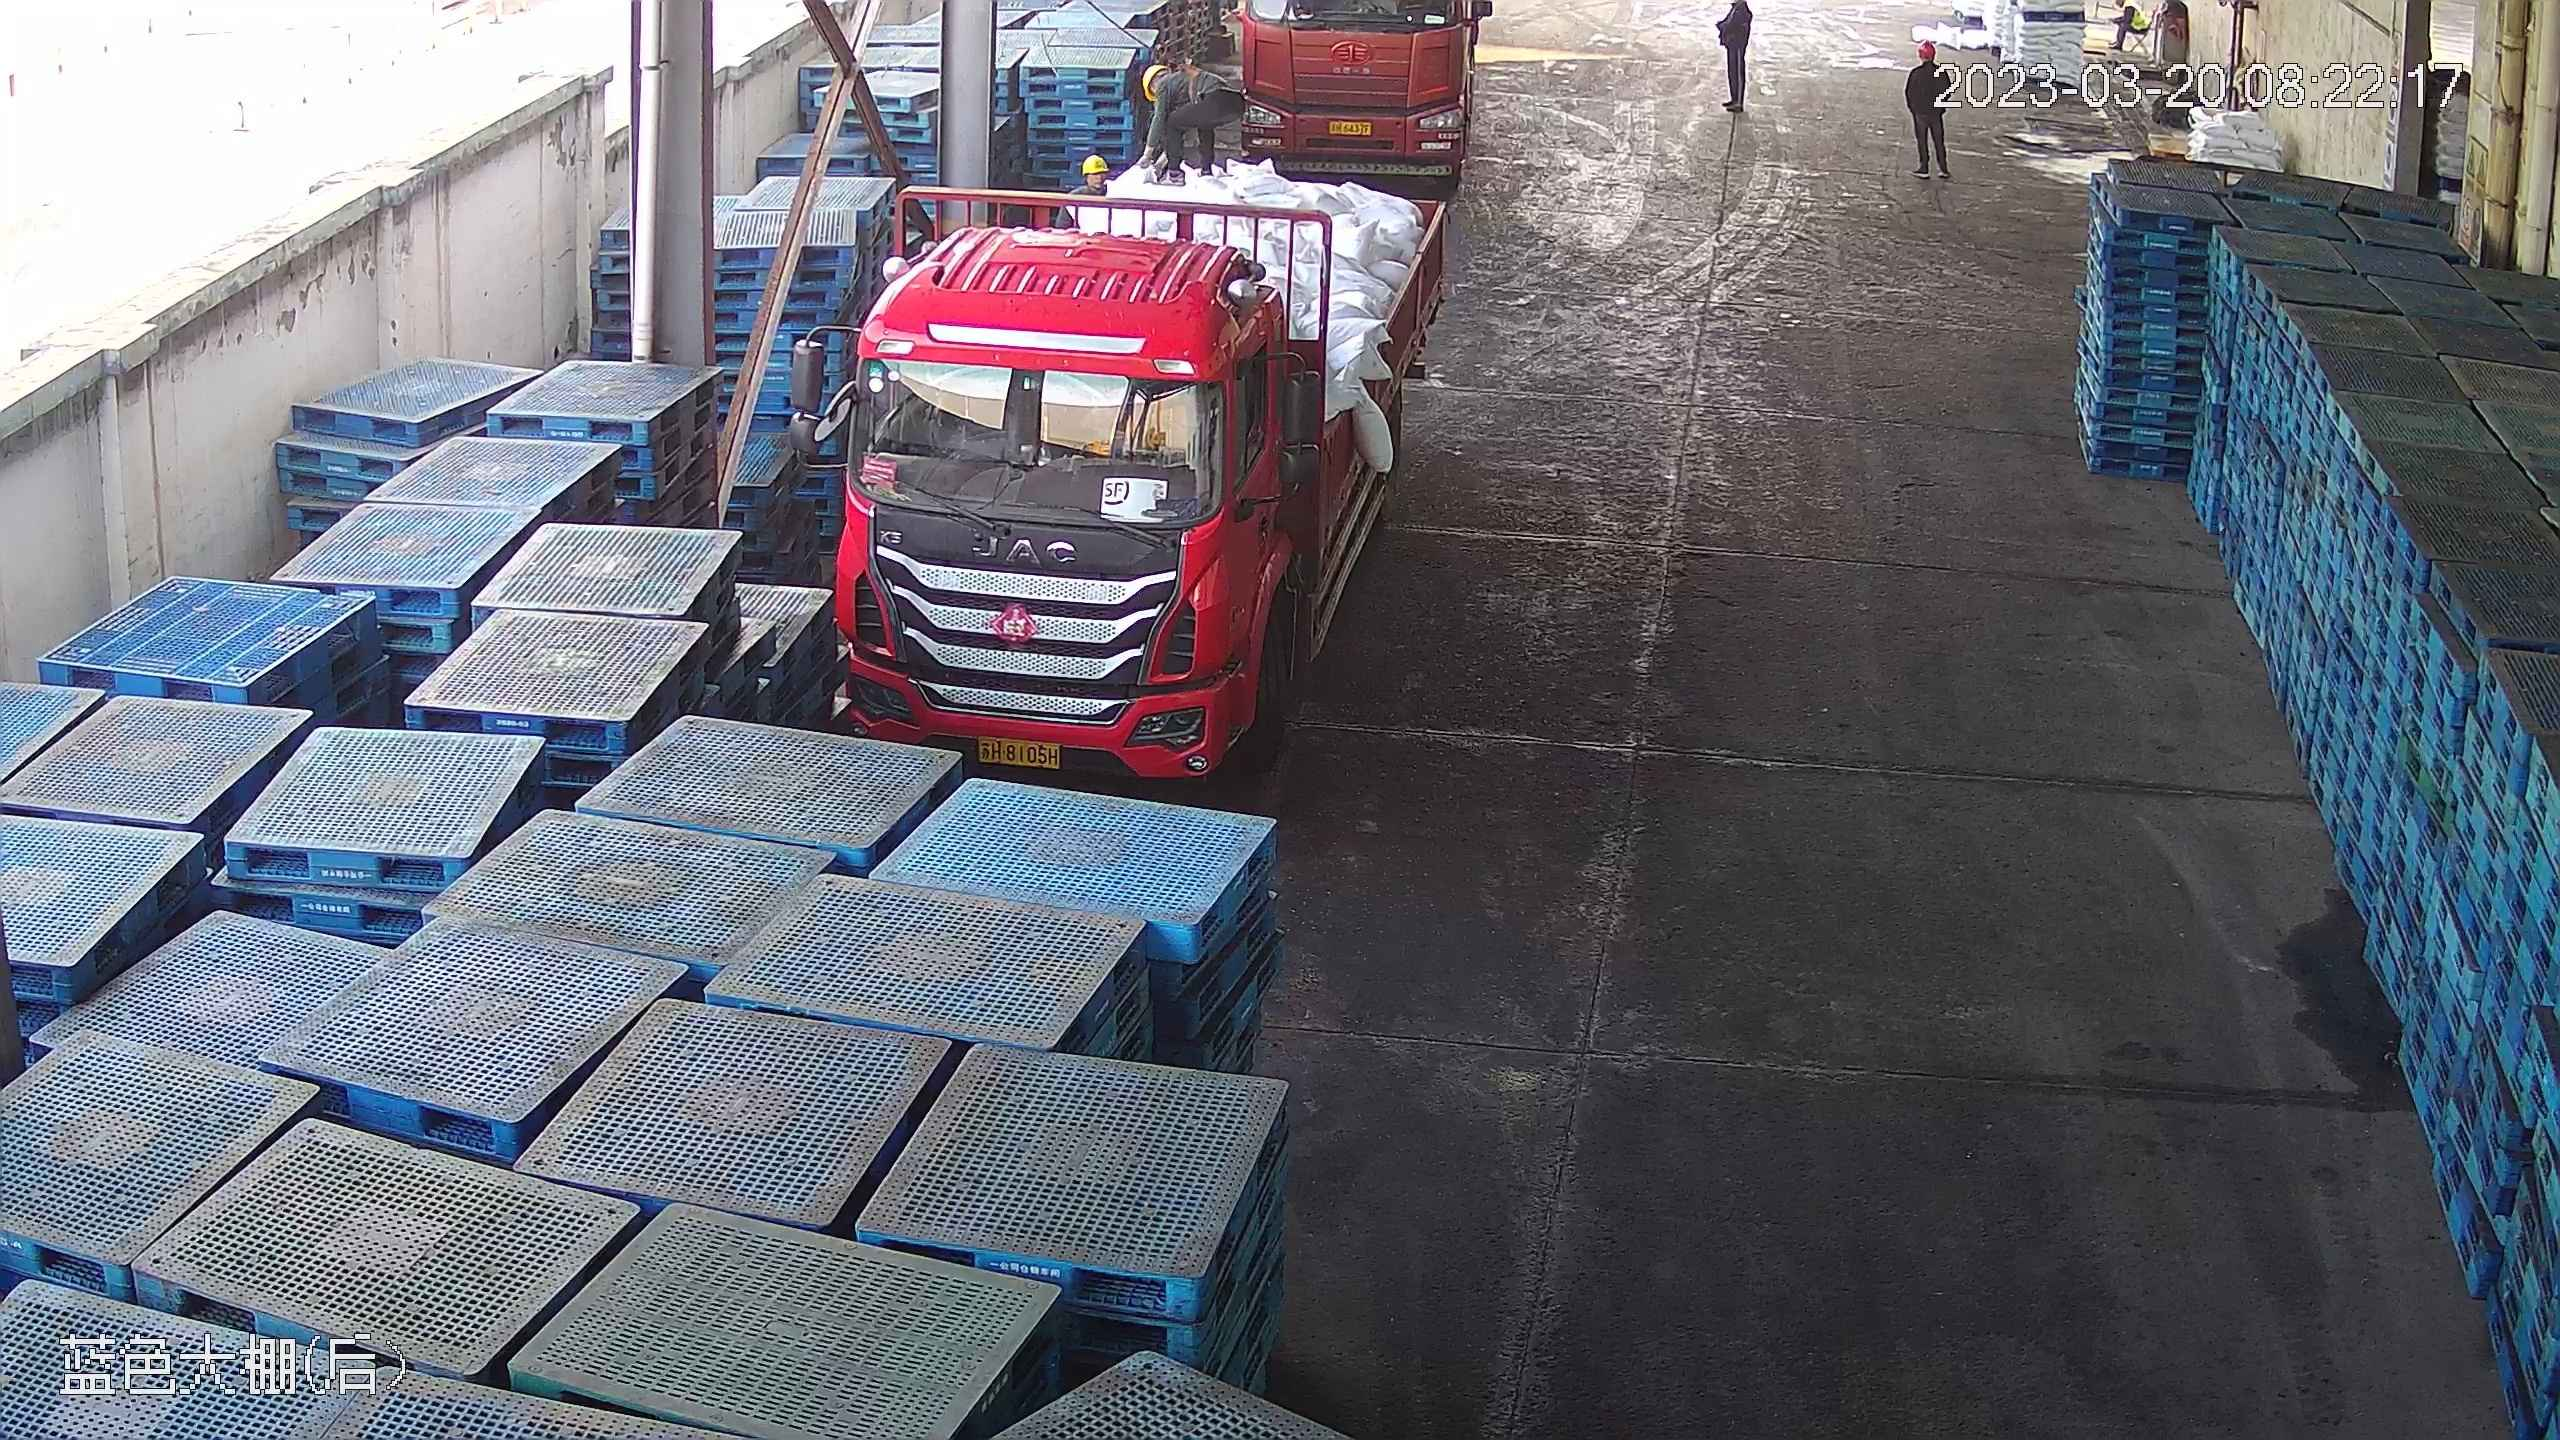belt: (1171, 55, 1206, 98)
head: (1907, 38, 1949, 85)
helmet: (1140, 67, 1174, 101), (1080, 155, 1109, 175), (1917, 41, 1937, 59)
people: (1133, 56, 1215, 174), (1903, 38, 1957, 183), (1712, 1, 1759, 119)
truck: (794, 159, 1457, 785), (1250, 5, 1481, 169)
